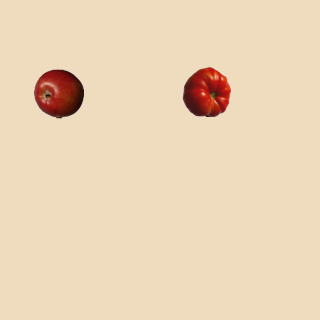Apple Braeburn: (33, 68, 83, 118)
Tomato 3: (181, 66, 231, 116)
